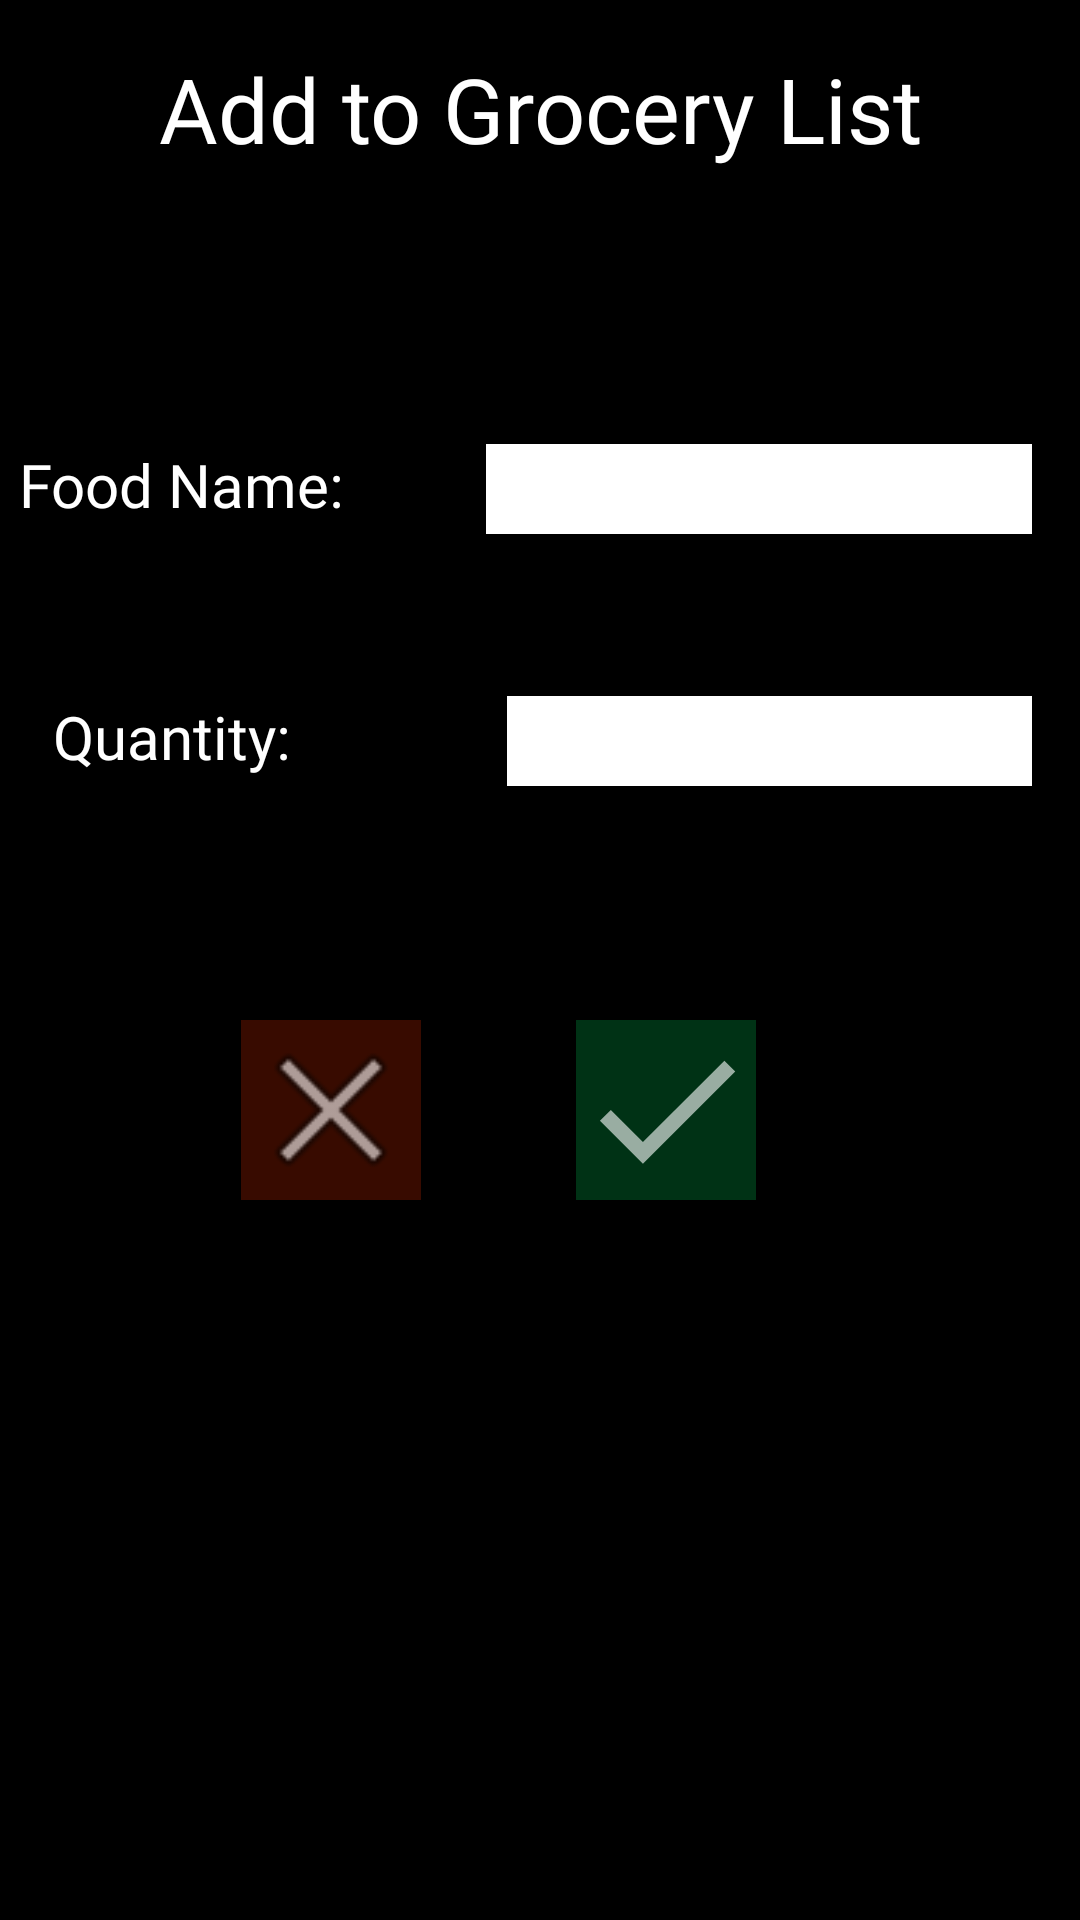

Named icons in this screenshot (1080 x 1920) and their bounding boxes, (x1, y1, x2, y2):
close clear cancel: (241, 1020, 421, 1200)
mycheck: (576, 1020, 756, 1200)
